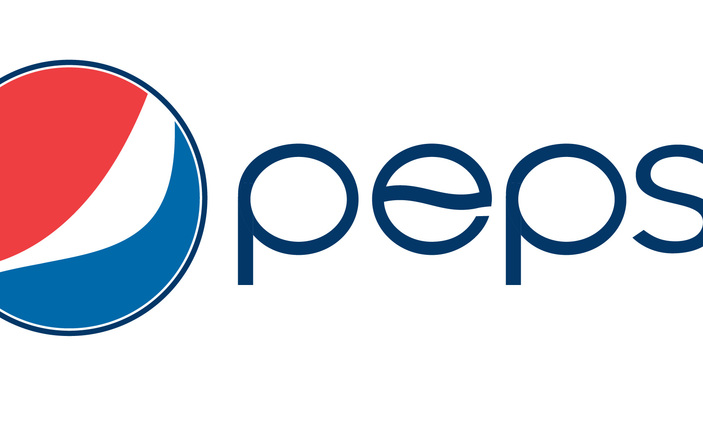pepsi: (0, 58, 206, 334)
